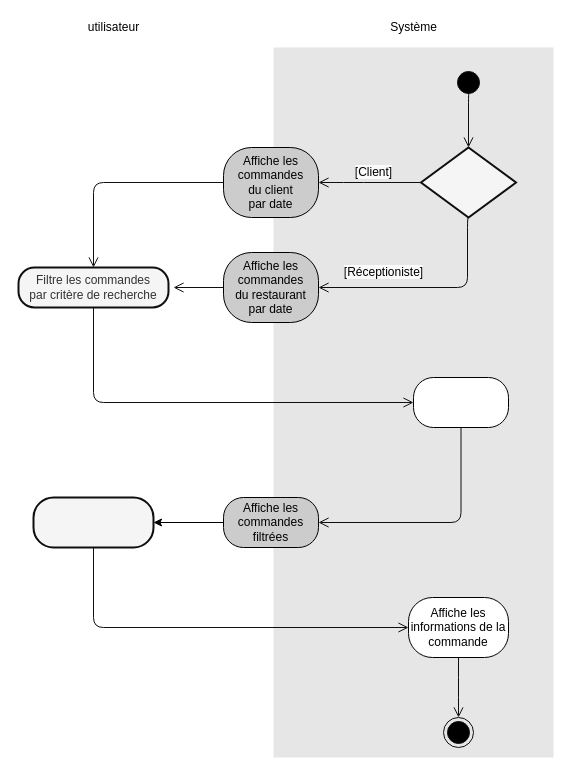
Image size: 570x774. Some labels were removed from this diagram. Each missing label, with the box of its shape:
Applique le filtre: (412, 376, 508, 428)
Sélectionne une commande: (32, 496, 154, 548)
Type d'utilisateur: (420, 146, 516, 218)
